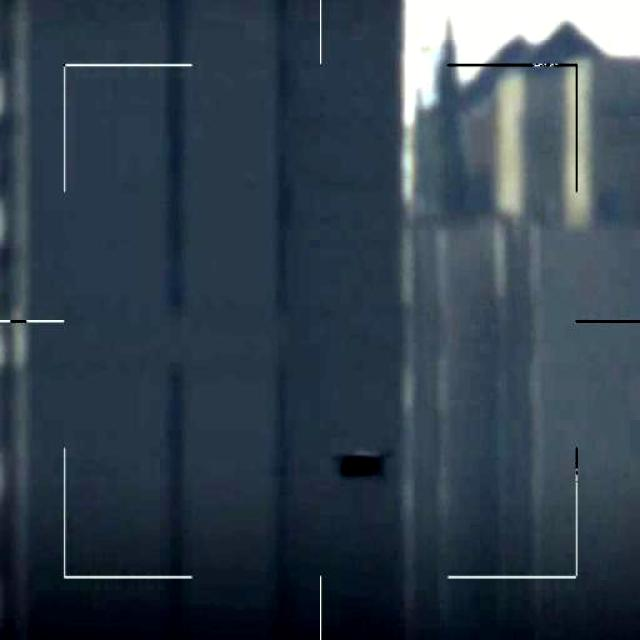bird: (341, 445, 396, 484)
